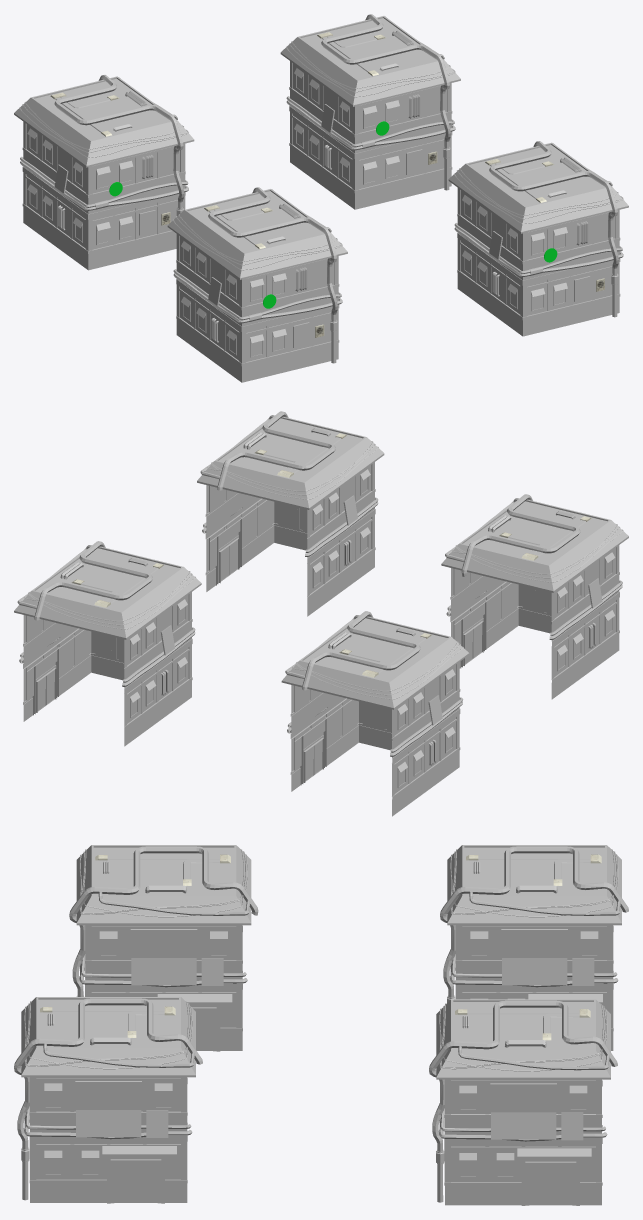
File: konohavill_CommonBuilding_A_1.fbx
The picture shows the model from 3 angles, top to bottom: view 1: azimuth 30°, elevation 25°; view 2: azimuth 150°, elevation 25°; view 3: azimuth 270°, elevation 25°; orthographic projection. The views are drawn at different scales.
Parts seen in each view (by area): view 1: MERGED_SM_ENV_KNVLLG_CommonBuilding_A_1.mo; view 2: MERGED_SM_ENV_KNVLLG_CommonBuilding_A_1.mo; view 3: MERGED_SM_ENV_KNVLLG_CommonBuilding_A_1.mo.
Boxes of the visible parts, x1,y1,x2,y2 form: MERGED_SM_ENV_KNVLLG_CommonBuilding_A_1.mo: (14,14,628,382); MERGED_SM_ENV_KNVLLG_CommonBuilding_A_1.mo: (14,411,628,816); MERGED_SM_ENV_KNVLLG_CommonBuilding_A_1.mo: (14,845,628,1205).
Bounding box in the file's own units: 4660 × 1573 × 5558.
